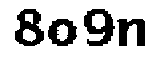8: (12, 2, 46, 50)
9: (79, 3, 116, 51)
n: (115, 14, 152, 51)
o: (46, 13, 80, 48)
